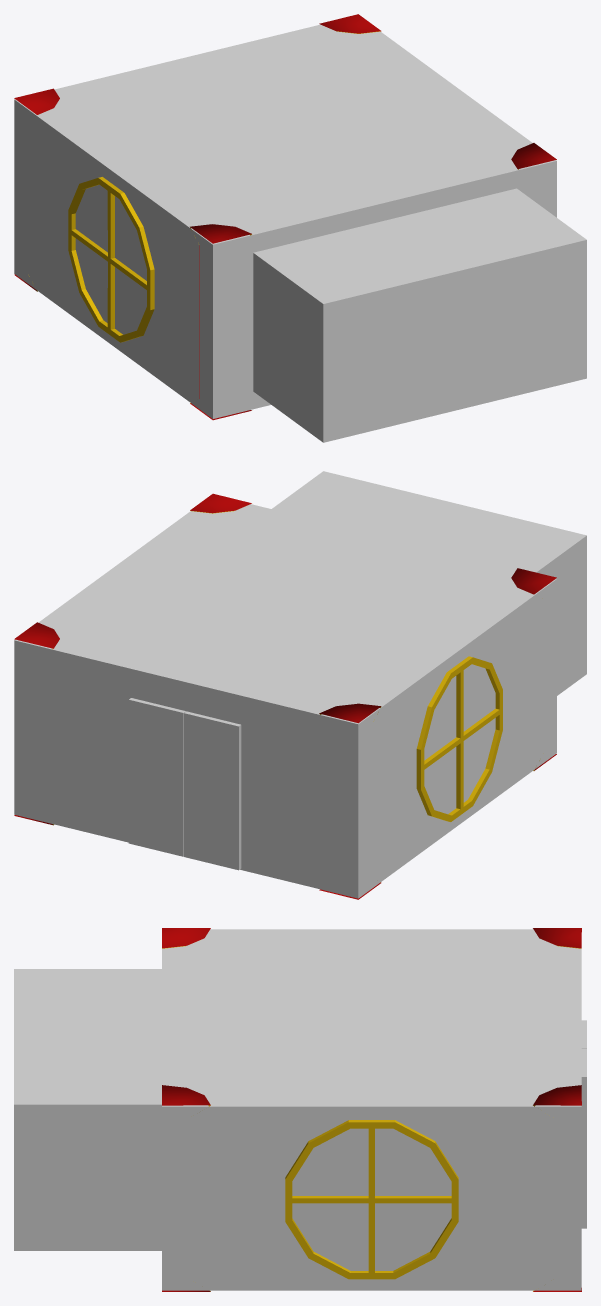
The model's file is ryugu.fbx.
The picture shows the model from 3 angles, top to bottom: view 1: azimuth 30°, elevation 25°; view 2: azimuth 150°, elevation 25°; view 3: azimuth 270°, elevation 25°; orthographic projection. The views are drawn at different scales.
Visible parts, largest first — view 1: pCube1, pPipe1, pCylinder1; view 2: pCube1, pCube2, pPipe1, pCylinder1; view 3: pCube1, pPipe1, pCylinder1, pCube2.
Part boxes in pixels (x1,y1,x2,y2): pCube1: [14, 24, 586, 442]; pPipe1: [68, 177, 154, 342]; pCylinder1: [14, 14, 556, 420]; pCube1: [14, 471, 586, 898]; pCube2: [128, 698, 241, 870]; pPipe1: [416, 656, 502, 821]; pCylinder1: [14, 493, 556, 899]; pCube1: [14, 929, 581, 1290]; pPipe1: [285, 1120, 458, 1279]; pCylinder1: [162, 928, 581, 1291]; pCube2: [581, 1020, 586, 1228].
Size of the model in its own units: 164 by 78.26 by 218.
